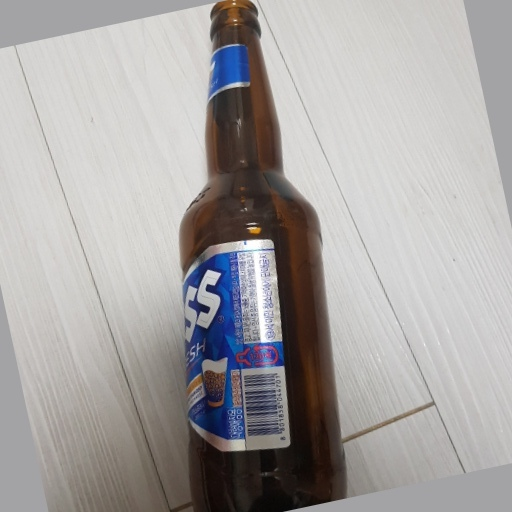Glass_1: (178, 1, 352, 512)
